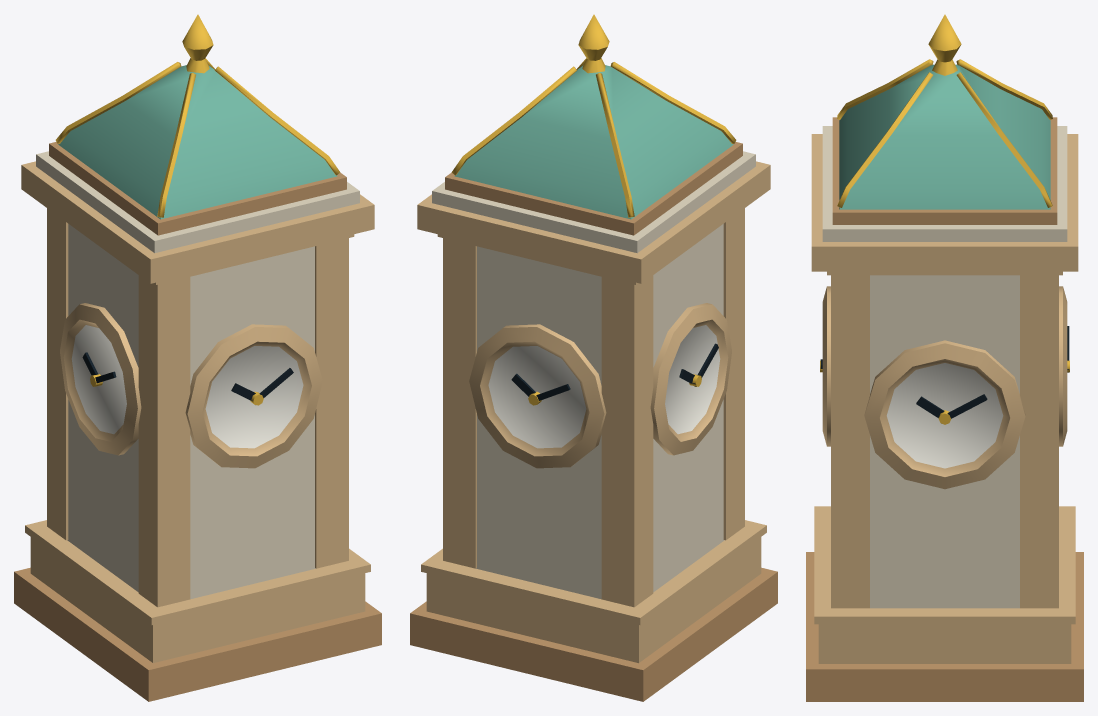
Rendered from clock-tower.lod1.glb.
The picture shows the model from 3 angles, left to right: view 1: azimuth 30°, elevation 25°; view 2: azimuth 150°, elevation 25°; view 3: azimuth 270°, elevation 25°; orthographic projection. The views are drawn at different scales.
Parts seen in each view (by area): view 1: clock-tower_lod1; view 2: clock-tower_lod1; view 3: clock-tower_lod1.
Boxes of the visible parts, x1=… form: clock-tower_lod1: x1=14, y1=14, x2=381, y2=701; clock-tower_lod1: x1=410, y1=14, x2=777, y2=701; clock-tower_lod1: x1=806, y1=14, x2=1083, y2=701.
Bounding box in the file's own units: 2 × 5 × 2.
